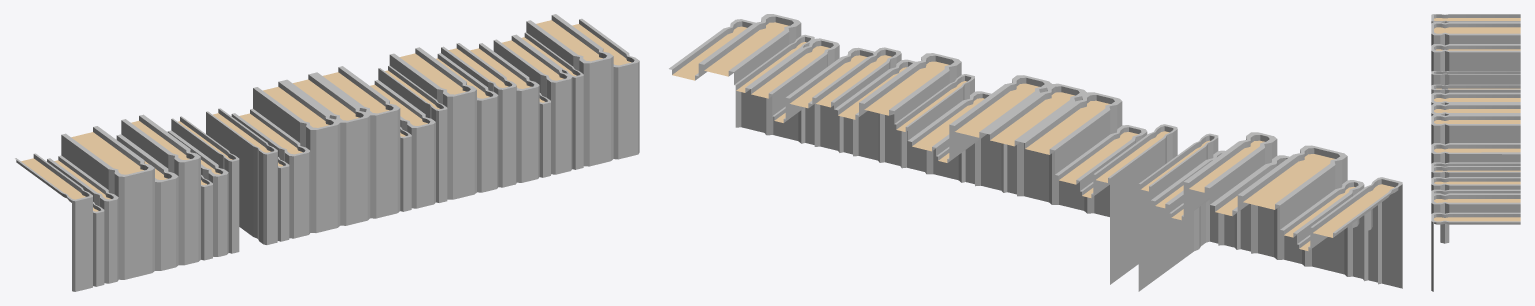
File: prop_biblioteca_libros_hueco003.fbx
3 views of the same model, side by side, from view 1: azimuth 30°, elevation 25°; view 2: azimuth 150°, elevation 25°; view 3: azimuth 270°, elevation 25° (orthographic). The views are drawn at different scales.
Visible parts, largest first — view 1: prop_biblioteca_libros_hueco003; view 2: prop_biblioteca_libros_hueco003; view 3: prop_biblioteca_libros_hueco003.
Boxes of the visible parts, <box> form: prop_biblioteca_libros_hueco003: <box>15,14,639,291</box>; prop_biblioteca_libros_hueco003: <box>669,14,1402,291</box>; prop_biblioteca_libros_hueco003: <box>1431,14,1520,291</box>.
Size of the model in its own units: 200 by 34.7 by 36.04.
